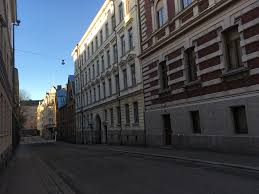strada: (1, 145, 252, 193)
